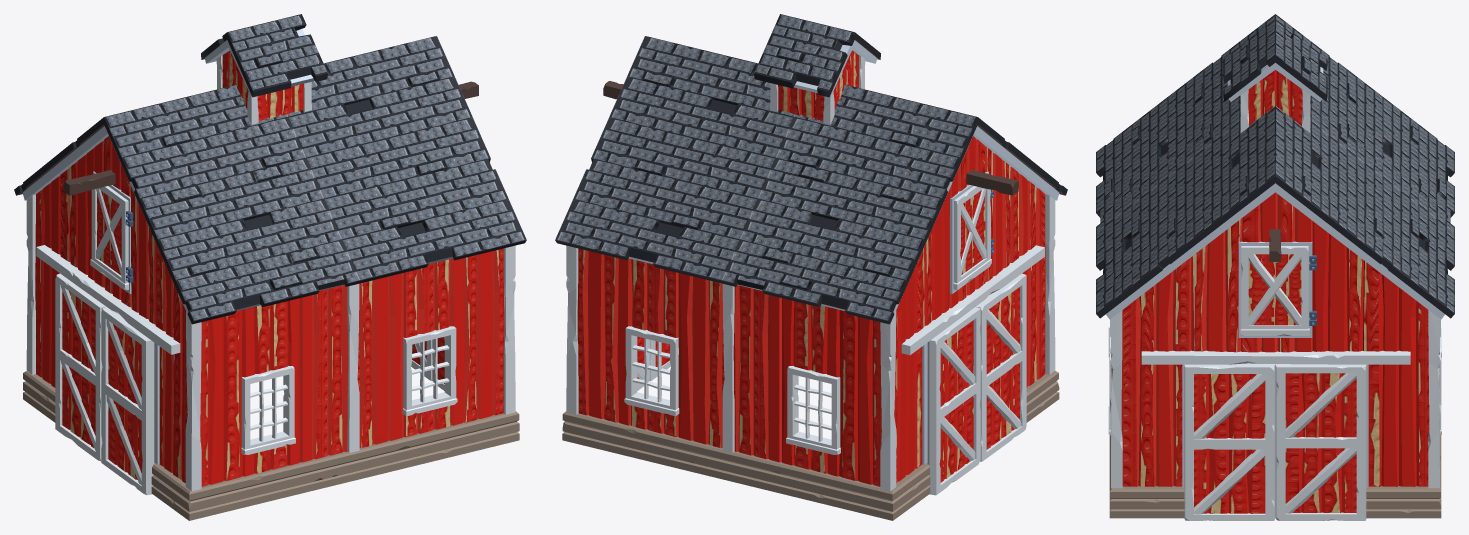
File: SM_Bld_Barn_03_stylized_reference.fbx
3 renders of one model, left to right at view 1: azimuth 30°, elevation 25°; view 2: azimuth 150°, elevation 25°; view 3: azimuth 270°, elevation 25°, orthographic.
Visible parts, largest first — view 1: SM_Bld_Barn_03; view 2: SM_Bld_Barn_03; view 3: SM_Bld_Barn_03.
Part boxes in pixels (<box>): SM_Bld_Barn_03: <box>14,14,526,520</box>; SM_Bld_Barn_03: <box>555,14,1067,520</box>; SM_Bld_Barn_03: <box>1096,14,1454,520</box>.
Size of the model in its own units: 977 by 911 by 744.
Materials: 1 (1 with a texture image).
